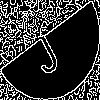J: (25, 25, 63, 78)
